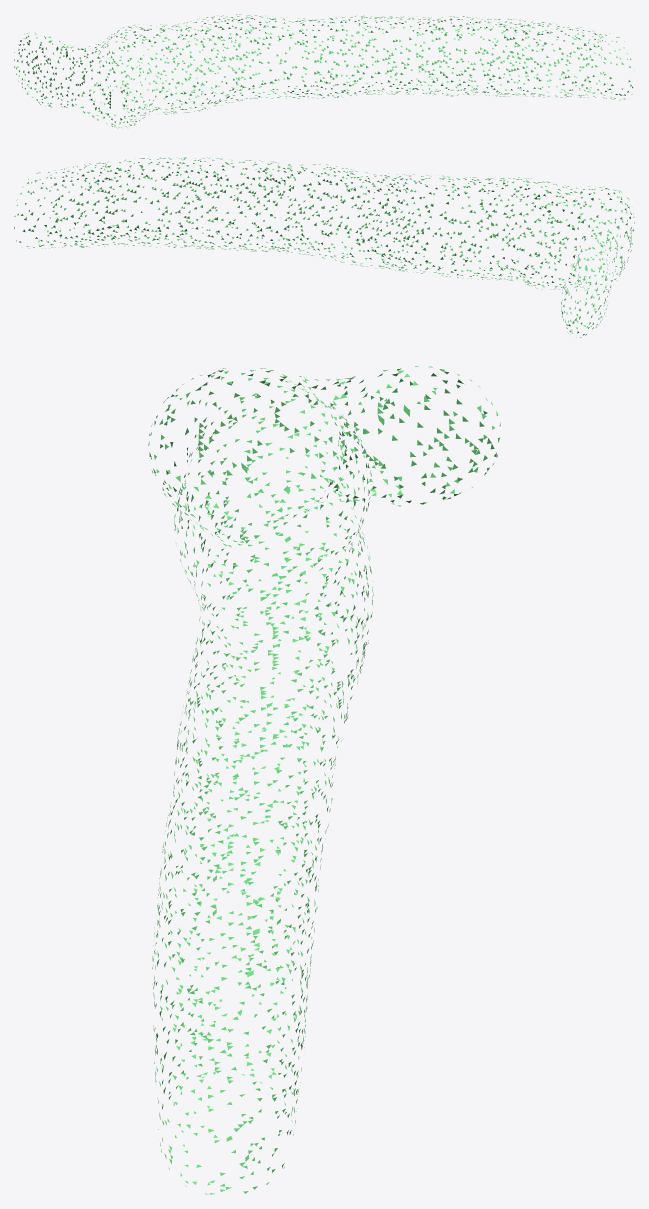
File: morph_019.glb
3 views of the same model, one above another, from view 1: azimuth 30°, elevation 25°; view 2: azimuth 150°, elevation 25°; view 3: azimuth 270°, elevation 25° (orthographic). The views are drawn at different scales.
Size of the model in its own units: 143 by 43.2 by 40.27.
